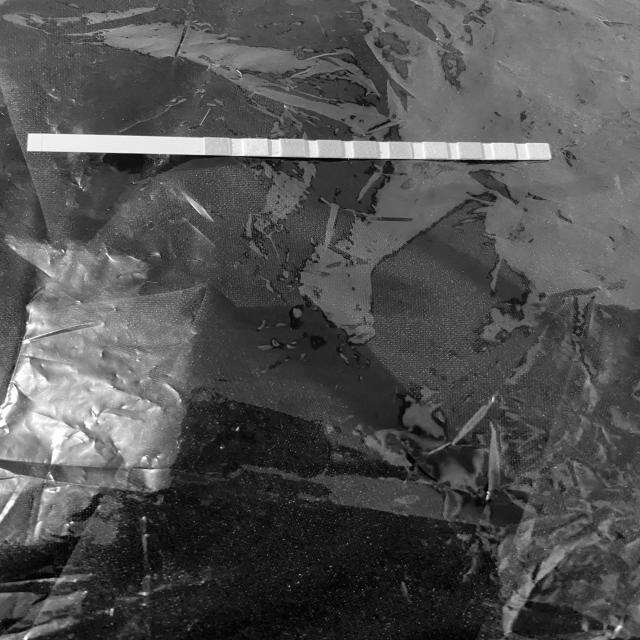Bilirubin: (244, 139, 268, 155)
Blood: (354, 141, 376, 157)
Glucose: (205, 138, 230, 155)
Ketone: (281, 139, 304, 156)
Leukocytes: (529, 144, 548, 158)
Nitrite: (495, 143, 514, 158)
Protein: (425, 142, 446, 158)
SpGravity: (318, 140, 341, 157)
Urobilinogen: (459, 143, 480, 158)
background: (0, 0, 640, 640)
pH: (389, 142, 411, 158)
strip: (27, 134, 552, 160)
